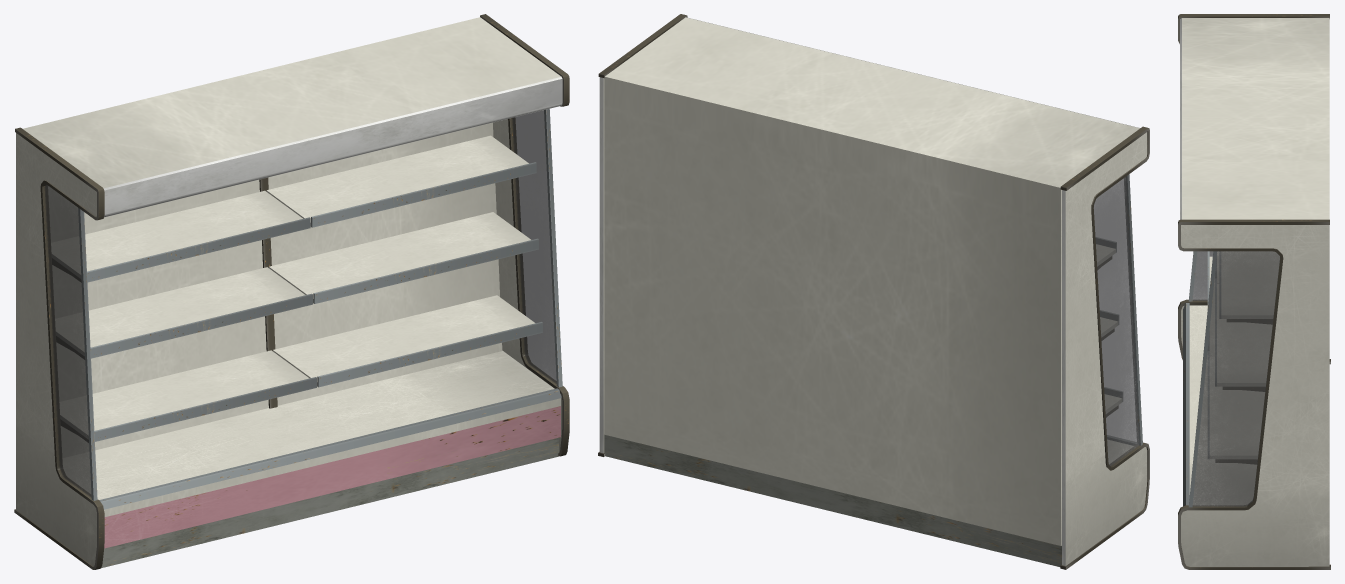
Rendered from coolshelf01.fbx.
The picture shows the model from 3 angles, left to right: view 1: azimuth 30°, elevation 25°; view 2: azimuth 150°, elevation 25°; view 3: azimuth 270°, elevation 25°; orthographic projection. The views are drawn at different scales.
Visible parts, largest first — view 1: coolshelf01; view 2: coolshelf01; view 3: coolshelf01.
Boxes of the visible parts, bbox=[...] form: coolshelf01: bbox=[14, 14, 569, 569]; coolshelf01: bbox=[598, 14, 1149, 569]; coolshelf01: bbox=[1178, 14, 1330, 569].
Bounding box in the file's own units: 263 × 205 × 81.74.
